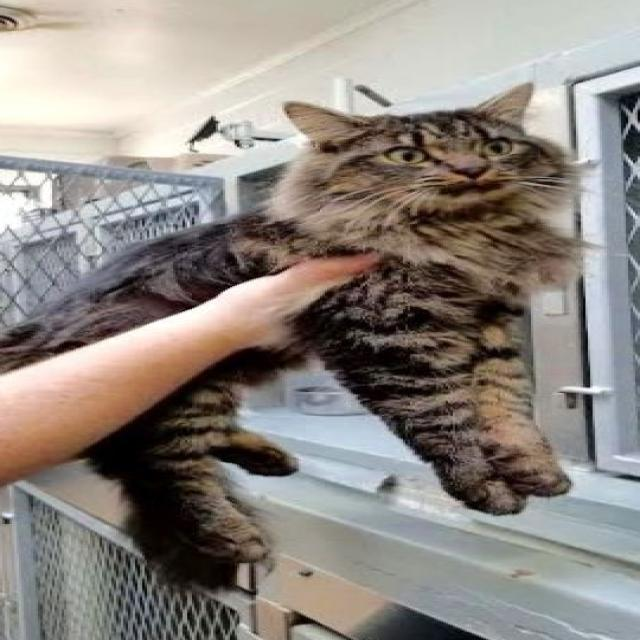Maine Coon: (0, 79, 583, 592)
